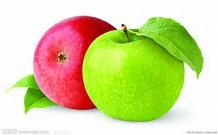apple: (87, 28, 184, 120)
